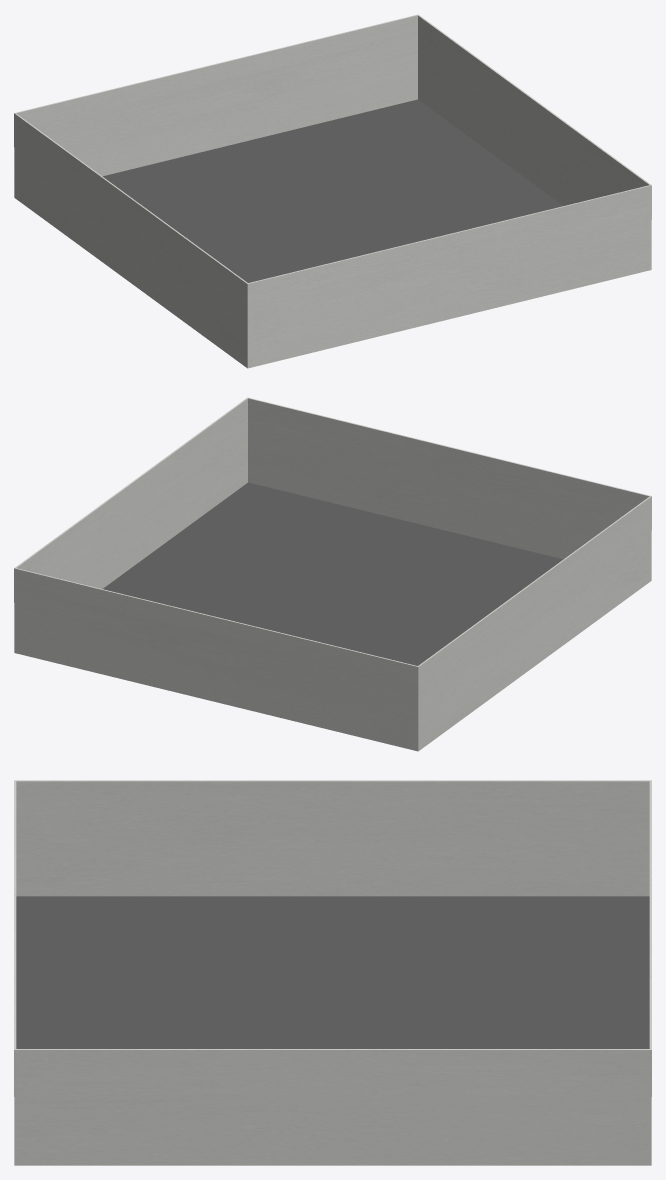
The model's file is agentic_ai_demo.glb.
3 renders of one model, top to bottom at view 1: azimuth 30°, elevation 25°; view 2: azimuth 150°, elevation 25°; view 3: azimuth 270°, elevation 25°, orthographic. The views are drawn at different scales.
Visible parts, largest first — view 1: Cube; view 2: Cube; view 3: Cube.
Boxes of the visible parts, left/top/right/bottom form: Cube: left=14, top=14, right=651, bottom=368; Cube: left=14, top=397, right=651, bottom=751; Cube: left=14, top=780, right=651, bottom=1165.
Bounding box in the file's own units: 20.14 × 4.03 × 20.14.
2 materials, 1 textured.
